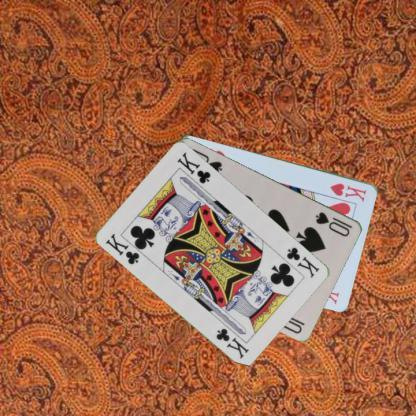10s: (313, 209, 351, 238)
Kc: (284, 244, 322, 280), (102, 232, 142, 266)
Kh: (328, 180, 368, 202)
